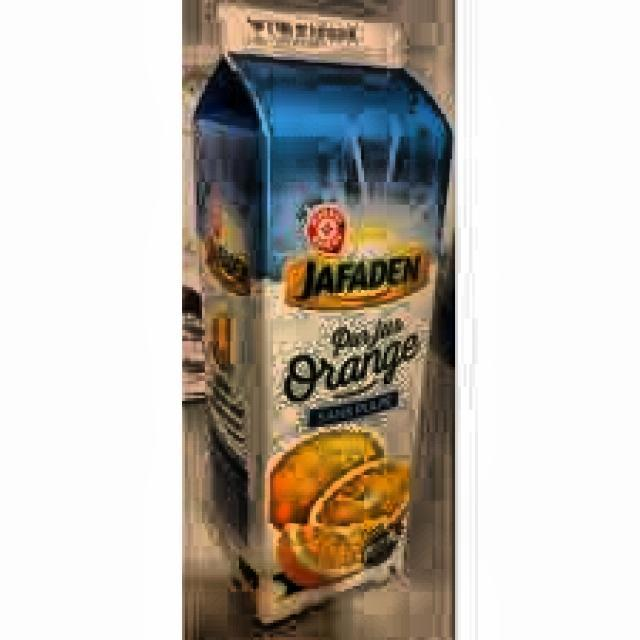cardboard: (182, 0, 455, 634)
